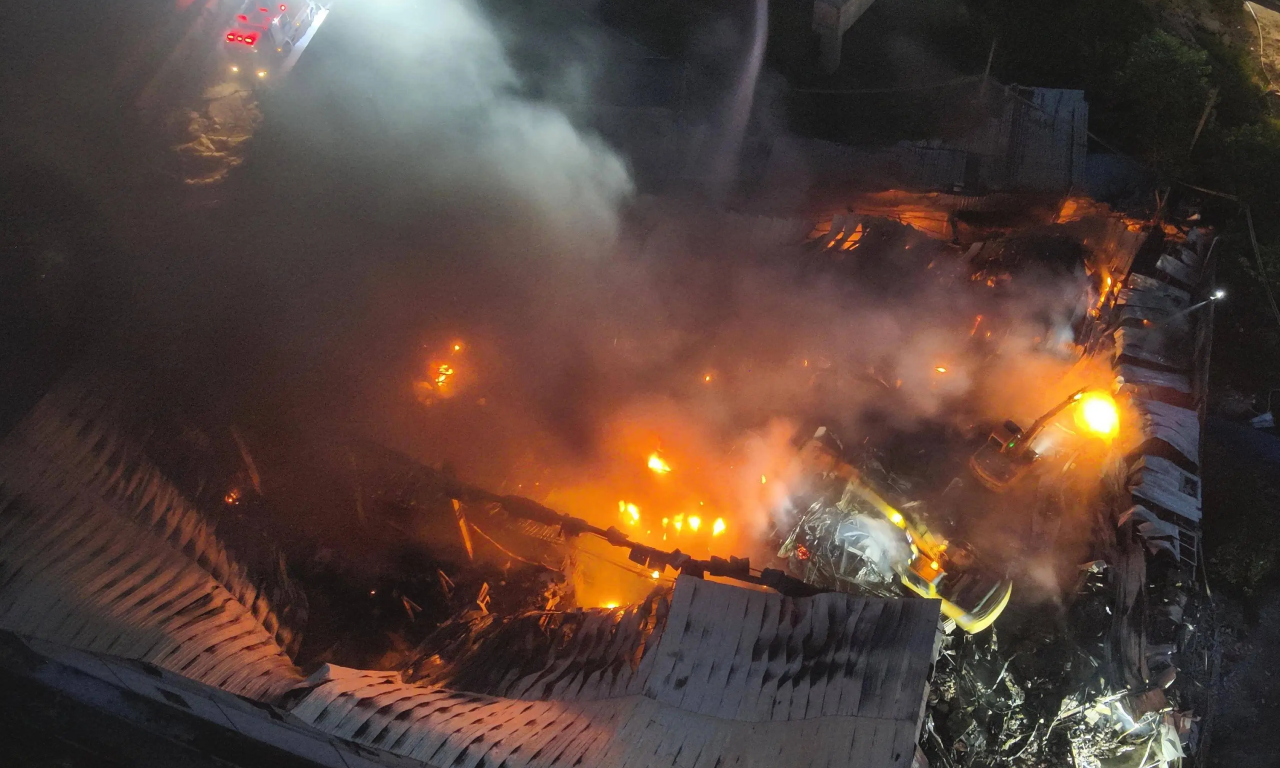fire: (409, 213, 1139, 635)
